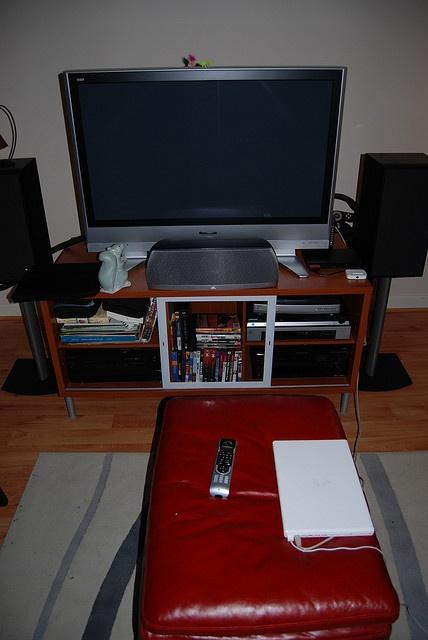AIO PC-Monitor-TV: (55, 65, 348, 254)
